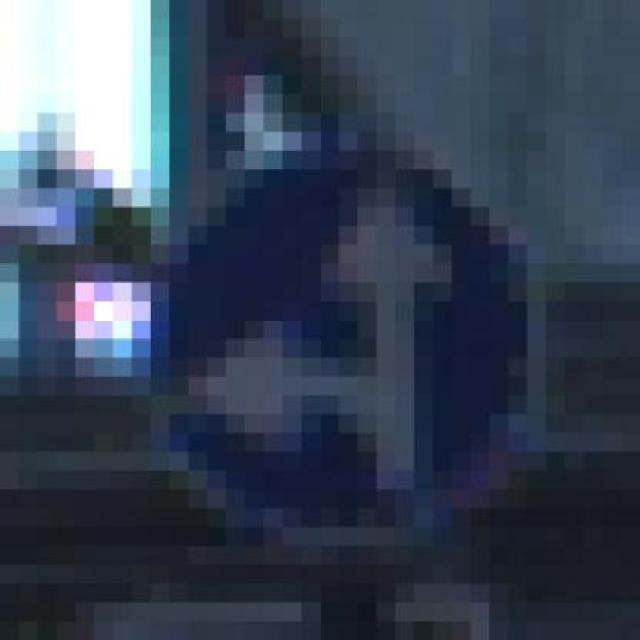Go straight or turn left: (76, 112, 564, 565)
